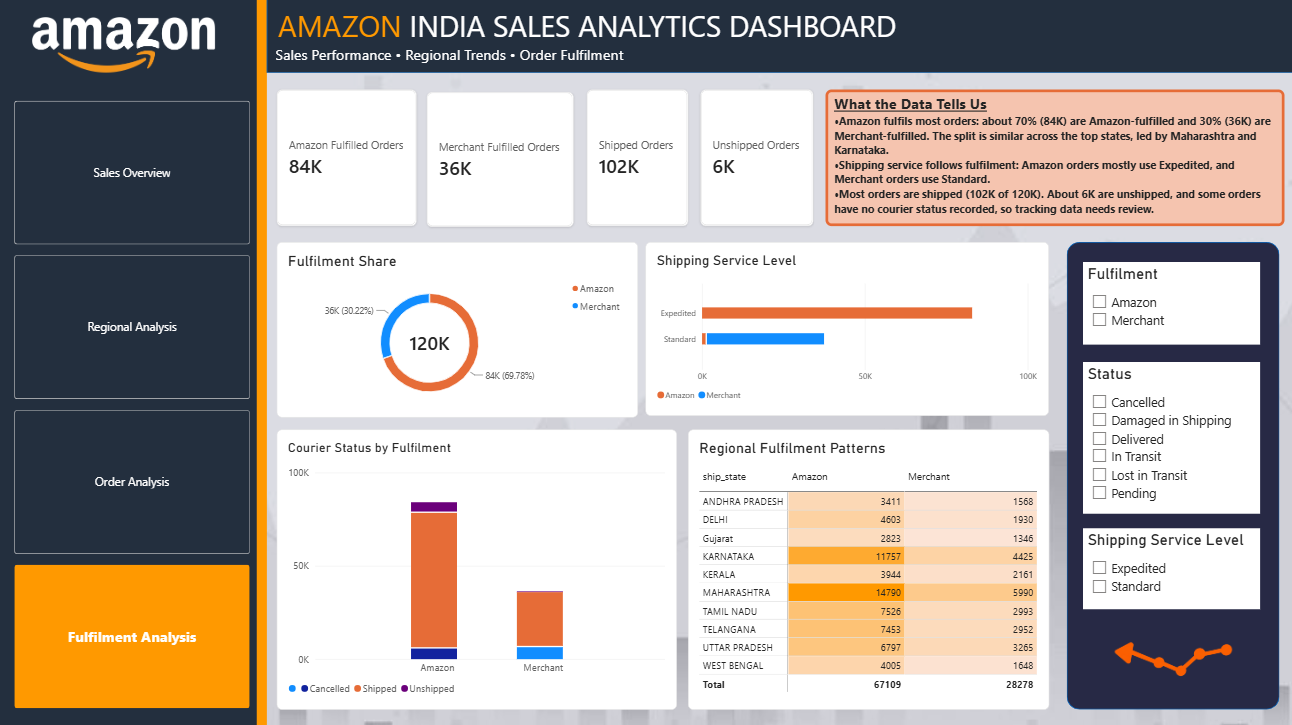

The page's visual inventory and layout, read from the dashboard file:
{"tool":"powerbi","page":{"name":"Fulfilment Analysis","canvas":[1920,1080],"ordinal":3},"visuals":[{"type":"shape","box":[0,0,396.7,1080],"z":0},{"type":"shape","box":[382.5,0,15,1080],"z":1000},{"type":"image","box":[0,30,372,82],"z":2000},{"type":"shape","box":[398.1,0,1521.9,112.2],"z":3000},{"type":"textbox","box":[411.8,13.7,923.5,78.4],"z":4000},{"type":"textbox","box":[411.8,70.6,1145.1,41.2],"z":5000},{"type":"pageNavigator","box":[23.5,152.9,349,902],"z":6000},{"type":"cardVisual","title":"Total recorded amount","fields":{"Data":["amazon_sales_mysql_ready_v3.Amazon Fulfilled Orders"]},"box":[412.5,137.5,207.5,202.5],"z":7000},{"type":"cardVisual","fields":{"Data":["amazon_sales_mysql_ready_v3.Shipped Orders"]},"box":[872.5,137.5,150,202.5],"z":8000},{"type":"cardVisual","fields":{"Data":["amazon_sales_mysql_ready_v3.Merchant Fulfilled Orders"]},"box":[635,140,217.5,200],"z":9000},{"type":"cardVisual","fields":{"Data":["amazon_sales_mysql_ready_v3.Unshipped Orders"]},"box":[1040,137.5,167.5,202.5],"z":10000},{"type":"donutChart","title":"Fulfilment Share","fields":{"Category":["amazon_sales_mysql_ready_v3.fulfilment"],"Y":["amazon_sales_mysql_ready_v3.Total Orders"]},"box":[412.5,362.5,535,260],"z":11000},{"type":"columnChart","title":"Courier Status by Fulfilment","fields":{"Category":["amazon_sales_mysql_ready_v3.fulfilment"],"Series":["amazon_sales_mysql_ready_v3.courier_status"],"Y":["amazon_sales_mysql_ready_v3.Total Orders"]},"box":[412.5,640,592.5,415],"z":12000},{"type":"barChart","title":"Shipping Service Level","fields":{"Category":["amazon_sales_mysql_ready_v3.ship_service_level"],"Series":["amazon_sales_mysql_ready_v3.fulfilment"],"Y":["amazon_sales_mysql_ready_v3.Total Orders"]},"box":[960,362.5,597.5,257.5],"z":13000},{"type":"pivotTable","title":"Regional Fulfilment Patterns","fields":{"Columns":["amazon_sales_mysql_ready_v3.fulfilment"],"Rows":["amazon_sales_mysql_ready_v3.ship_state"],"Values":["amazon_sales_mysql_ready_v3.Total Orders"]},"box":[1022.5,640,535,415],"z":14000},{"type":"shape","box":[1582.5,362.5,315,692.5],"z":15000},{"type":"slicer","title":"Fulfilment","fields":{"Values":["amazon_sales_mysql_ready_v3.fulfilment"]},"box":[1607.5,392.5,262.5,122.5],"z":16000},{"type":"slicer","title":"  Status","fields":{"Values":["amazon_sales_mysql_ready_v3.status (groups)"]},"box":[1607.5,540,262.5,225],"z":17000},{"type":"slicer","title":"Shipping Service Level","fields":{"Values":["amazon_sales_mysql_ready_v3.ship_service_level"]},"box":[1607.5,787.5,262.5,120],"z":18000},{"type":"textbox","box":[1225,137.5,680,202.5],"z":19000},{"type":"image","box":[1590,870,300,210],"z":20000}]}

Visuals, with their boxes in screenshot pixels (x1, y1, x2, y2), scaled from the page's 1920x1080 canvas onto the 1292x725 screenshot:
shape: region(0, 0, 267, 724)
shape: region(257, 0, 267, 724)
image: region(0, 20, 250, 75)
shape: region(268, 0, 1291, 75)
textbox: region(277, 9, 899, 62)
textbox: region(277, 47, 1048, 75)
pageNavigator: region(16, 103, 251, 708)
"Total recorded amount" cardVisual: region(278, 92, 417, 228)
cardVisual - amazon_sales_mysql_ready_v3.Shipped Orders: region(587, 92, 688, 228)
cardVisual - amazon_sales_mysql_ready_v3.Merchant Fulfilled Orders: region(427, 94, 574, 228)
cardVisual - amazon_sales_mysql_ready_v3.Unshipped Orders: region(700, 92, 813, 228)
"Fulfilment Share" donutChart: region(278, 243, 638, 418)
"Courier Status by Fulfilment" columnChart: region(278, 430, 676, 708)
"Shipping Service Level" barChart: region(646, 243, 1048, 416)
"Regional Fulfilment Patterns" pivotTable: region(688, 430, 1048, 708)
shape: region(1065, 243, 1277, 708)
"Fulfilment" slicer: region(1082, 263, 1258, 346)
"  Status" slicer: region(1082, 362, 1258, 514)
"Shipping Service Level" slicer: region(1082, 529, 1258, 609)
textbox: region(824, 92, 1282, 228)
image: region(1070, 584, 1272, 724)
